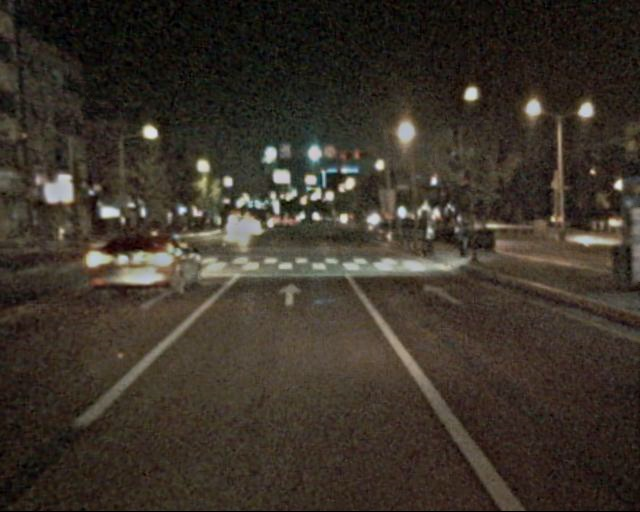person: (451, 218, 471, 268), (422, 218, 442, 264)
